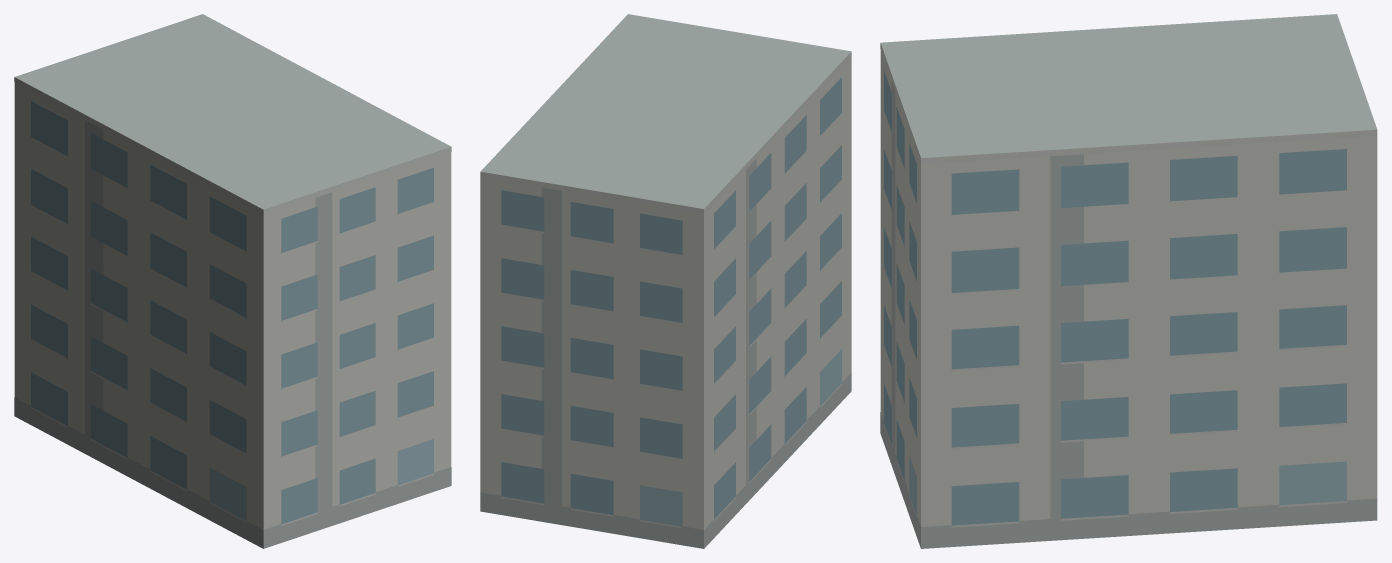
File: residential-13f5ddc2-9005-4e9a-800e-dd427982ae0d.glb
3 views of the same model, side by side, from view 1: azimuth 30°, elevation 25°; view 2: azimuth 150°, elevation 25°; view 3: azimuth 270°, elevation 25° (orthographic). The views are drawn at different scales.
Visible parts, largest first — view 1: residential-13f5ddc2-9005-4e9a-800e-dd427982ae0d.tmp; view 2: residential-13f5ddc2-9005-4e9a-800e-dd427982ae0d.tmp; view 3: residential-13f5ddc2-9005-4e9a-800e-dd427982ae0d.tmp.
Part boxes in pixels (bbox=[...]): residential-13f5ddc2-9005-4e9a-800e-dd427982ae0d.tmp: bbox=[14, 14, 451, 548]; residential-13f5ddc2-9005-4e9a-800e-dd427982ae0d.tmp: bbox=[480, 14, 851, 548]; residential-13f5ddc2-9005-4e9a-800e-dd427982ae0d.tmp: bbox=[880, 14, 1377, 548].
Bounding box in the file's own units: 12.08 × 15.25 × 17.59.
